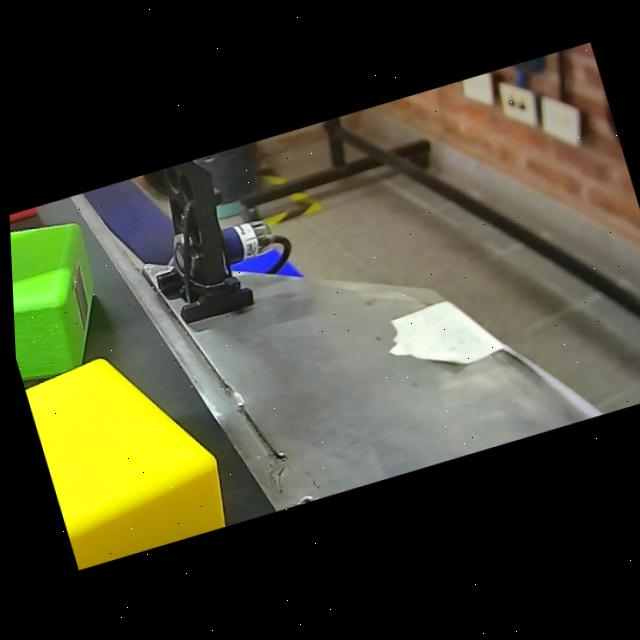greenBox: (7, 202, 124, 389)
redBox: (7, 202, 54, 242)
yellowBox: (16, 327, 233, 572)
